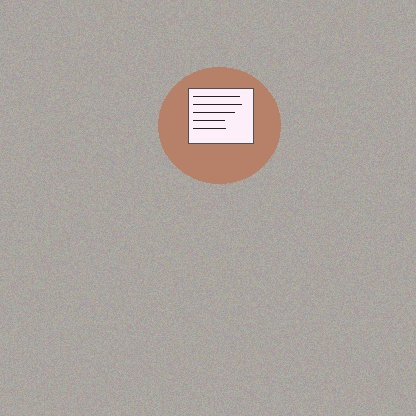exam_chit: (188, 88, 253, 143)
